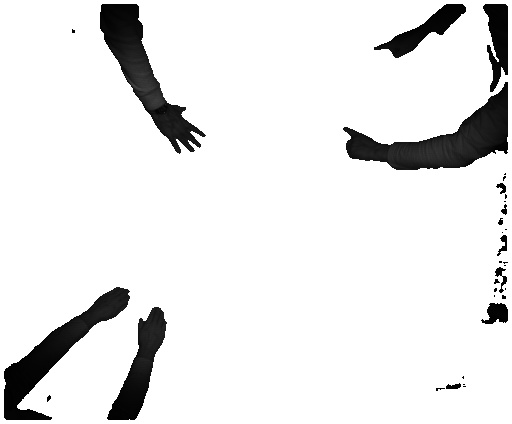hand: (157, 107, 207, 159), (336, 123, 383, 167), (87, 280, 133, 322), (368, 30, 422, 63), (138, 304, 167, 354)
